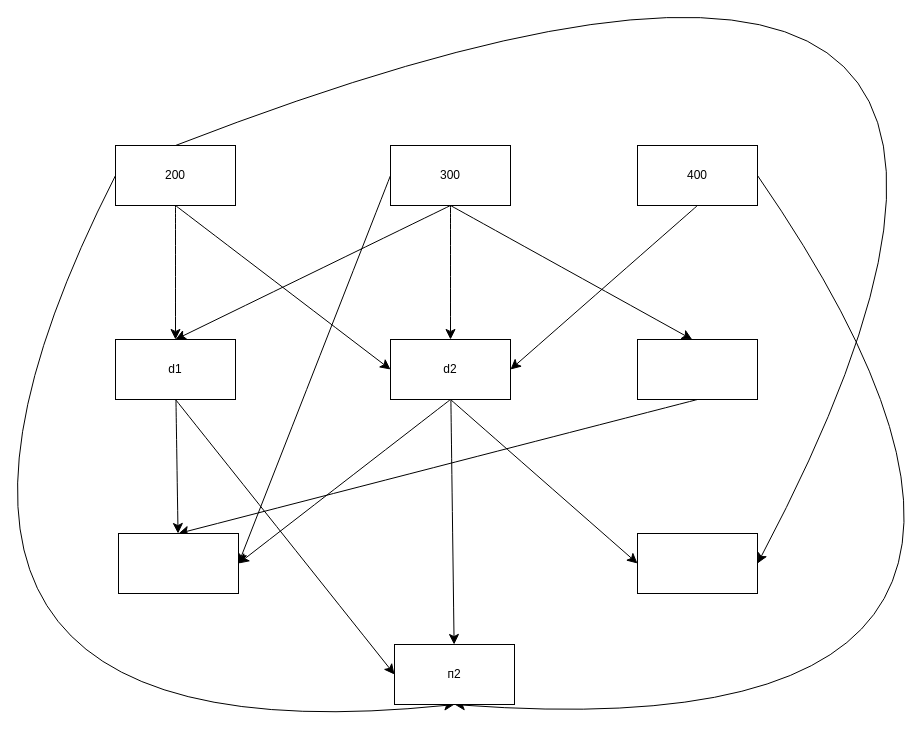
Some shapes in this 922 by 730 pixel diagram are drawn without their labels. Each missing label, with the centre of its shape:
d3: the point at 697,369
п1: the point at 178,563
п3: the point at 697,563
